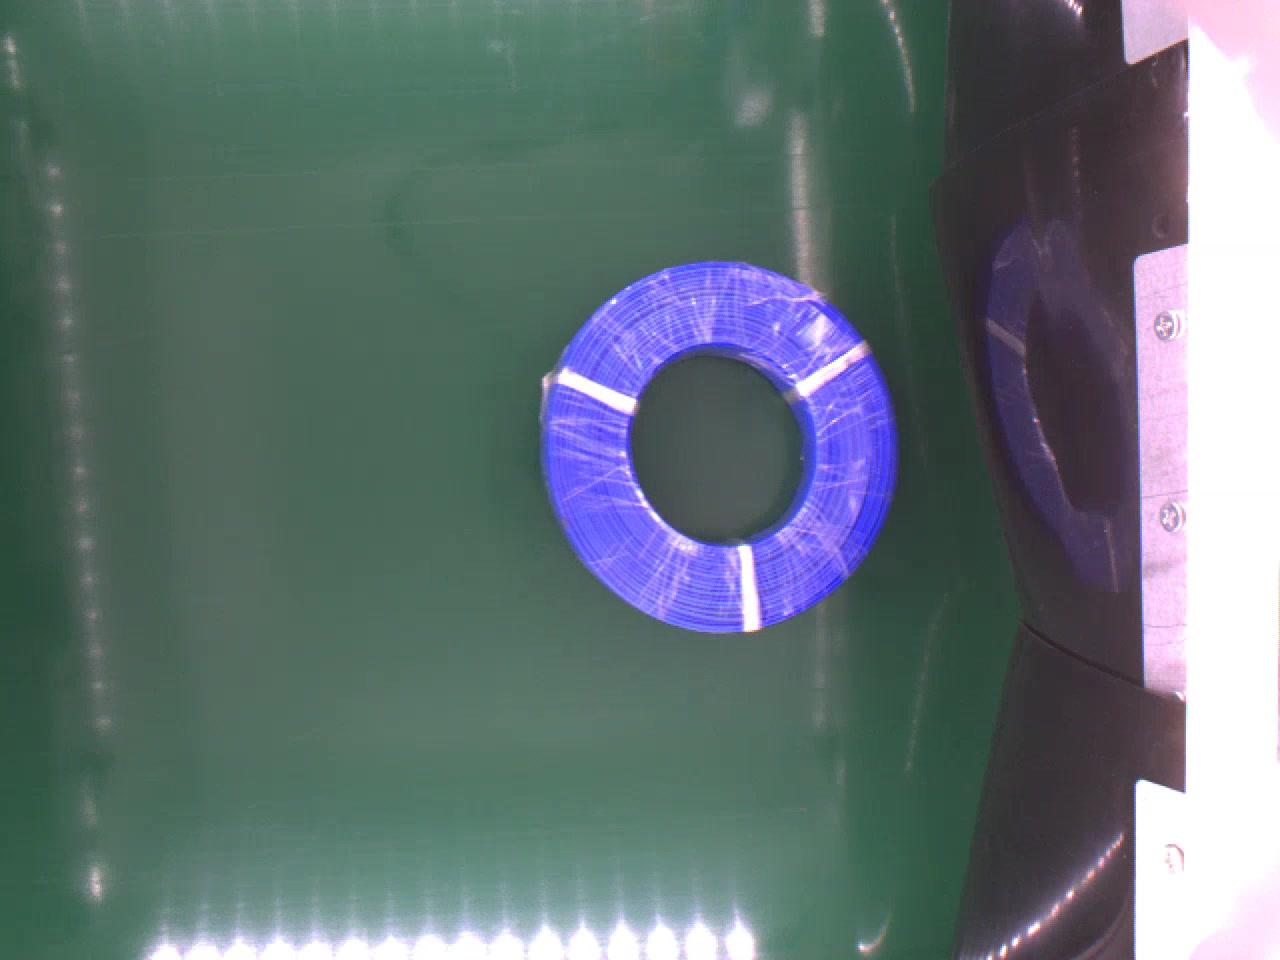blue: (525, 255, 907, 638)
